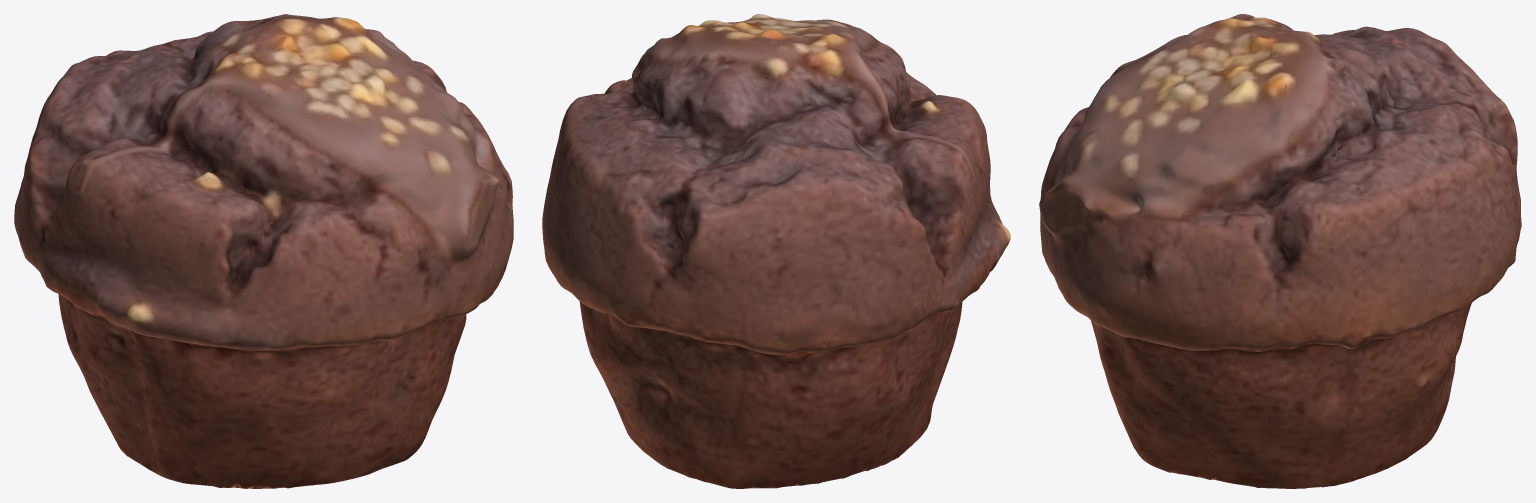
The model's file is muffin_27700.obj.
The picture shows the model from 3 angles, left to right: view 1: azimuth 30°, elevation 25°; view 2: azimuth 150°, elevation 25°; view 3: azimuth 270°, elevation 25°; orthographic projection. The views are drawn at different scales.
Size of the model in its own units: 14.22 by 13.01 by 14.4.
1 material, 1 textured.
